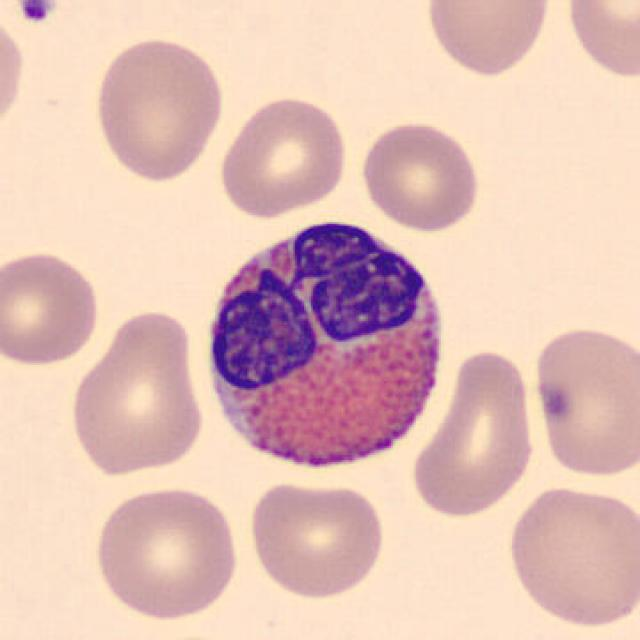Eosinophil: (195, 201, 457, 488)
Platelets: (14, 0, 60, 26)
RBC: (66, 306, 208, 479), (409, 345, 540, 522), (89, 482, 243, 622), (89, 34, 227, 185), (503, 482, 638, 632), (244, 478, 388, 601), (528, 321, 636, 481), (215, 92, 350, 220), (356, 116, 484, 235), (0, 247, 103, 368), (421, 0, 554, 79), (560, 0, 640, 83), (0, 9, 30, 137)
